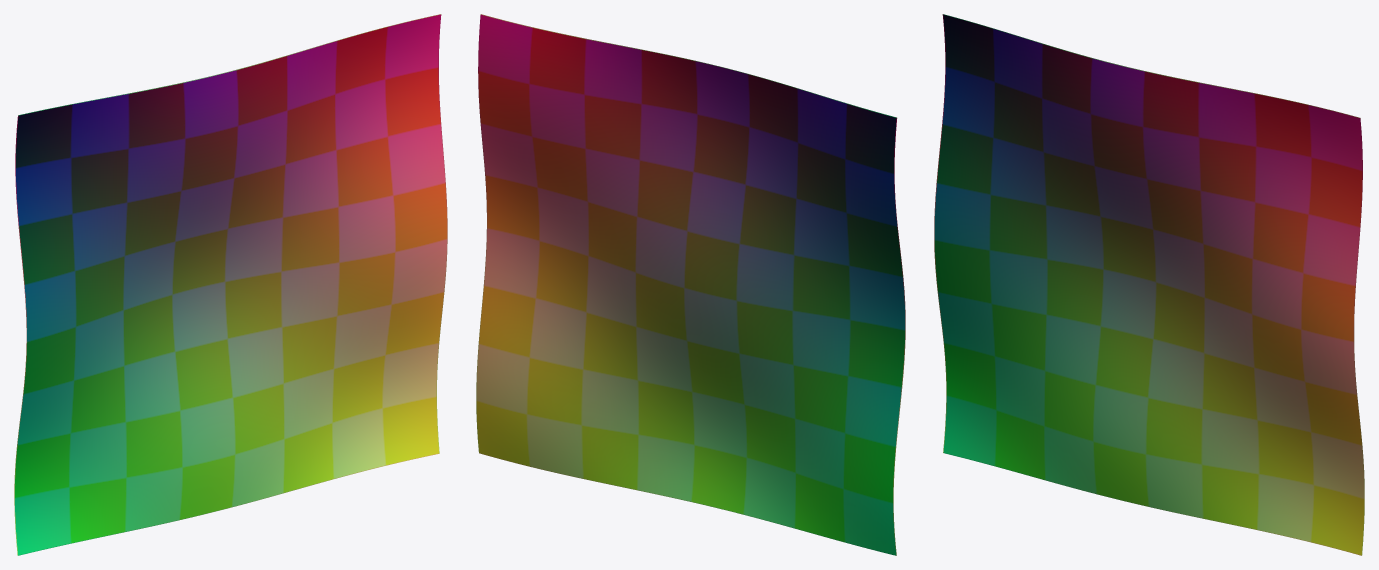
Rendered from Tile_+023_+009.obj.
3 views of the same model, side by side, from view 1: azimuth 30°, elevation 25°; view 2: azimuth 150°, elevation 25°; view 3: azimuth 330°, elevation 25° (orthographic).
Bounding box in the file's own units: 100 × 100 × 5.78.
